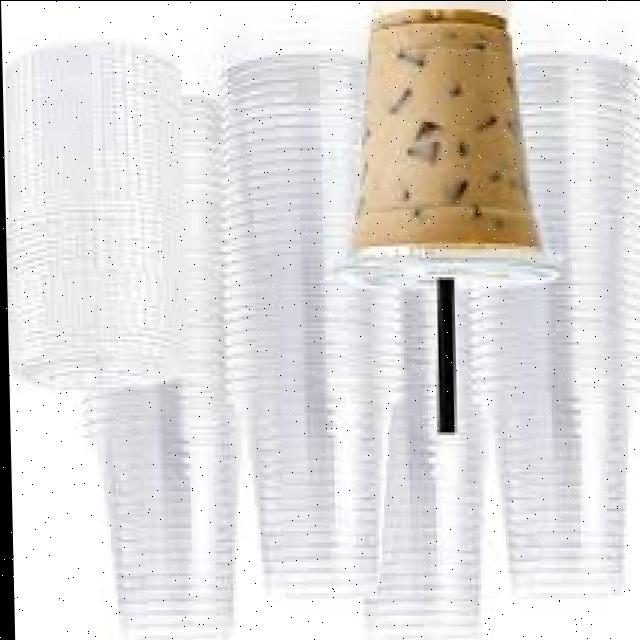cup: (346, 11, 550, 284)
